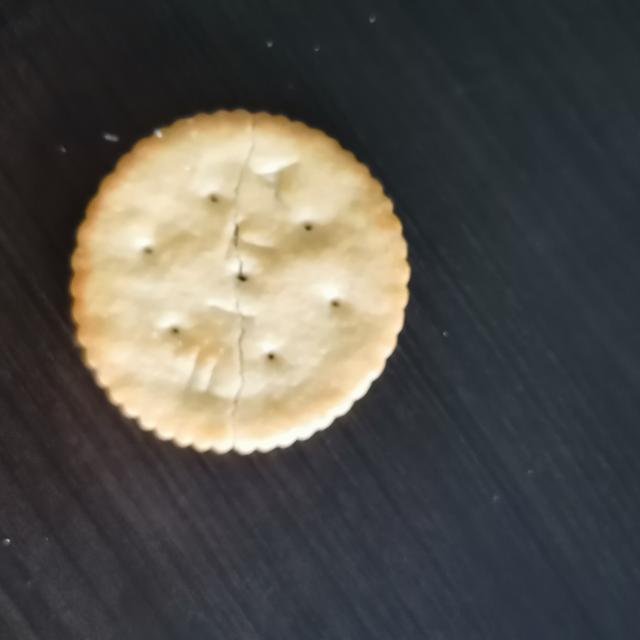Fracture: (207, 110, 279, 452)
